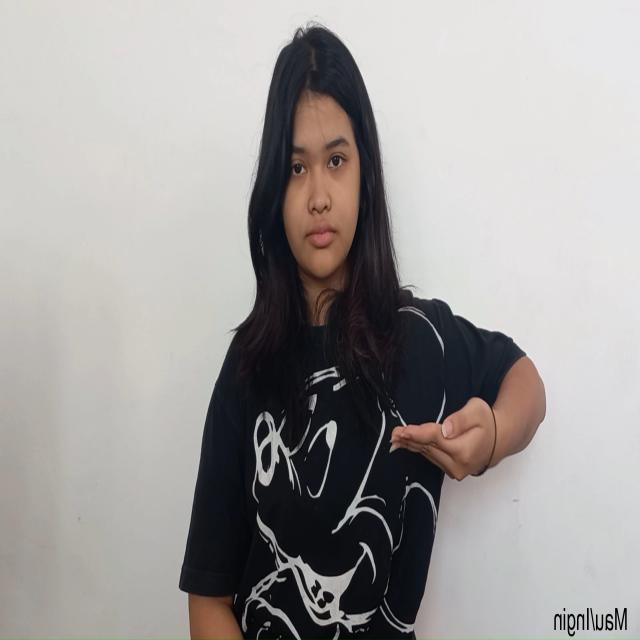Mau-Ingin -BISINDO-: (386, 392, 498, 489)
